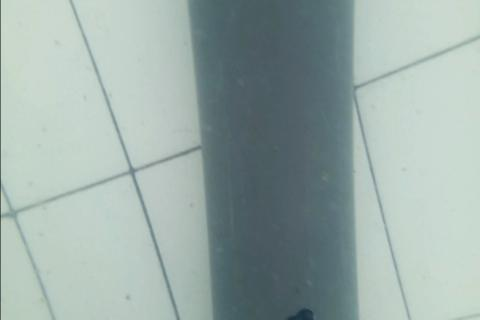kebocoran: (278, 306, 314, 320)
